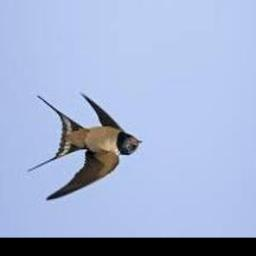Swallow: (26, 94, 142, 202)
